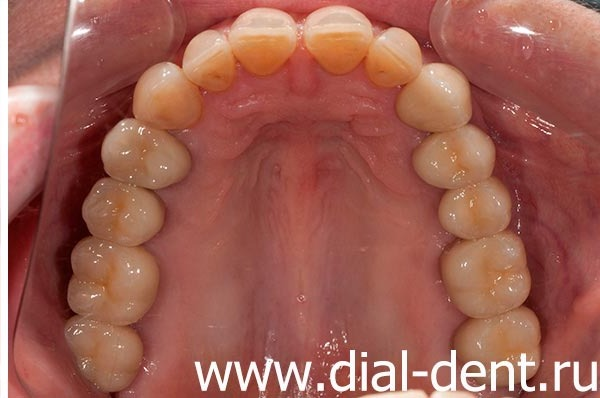UL1BC_healthy: (415, 128, 494, 188)
UL1M_healthy: (444, 235, 530, 317)
UL2BC_healthy: (440, 180, 510, 238)
UL2M_healthy: (457, 311, 541, 353)
ULCI_healthy: (305, 6, 372, 73)
ULC_healthy: (398, 64, 471, 131)
ULLI_healthy: (369, 28, 421, 86)
UR1BC_healthy: (102, 120, 190, 187)
UR1M_healthy: (71, 238, 157, 325)
UR2BC_healthy: (85, 180, 163, 246)
UR2M_healthy: (76, 325, 140, 391)
URCI_healthy: (230, 8, 296, 75)
URC_healthy: (134, 63, 199, 127)
URLI_decay: (183, 31, 233, 90)
